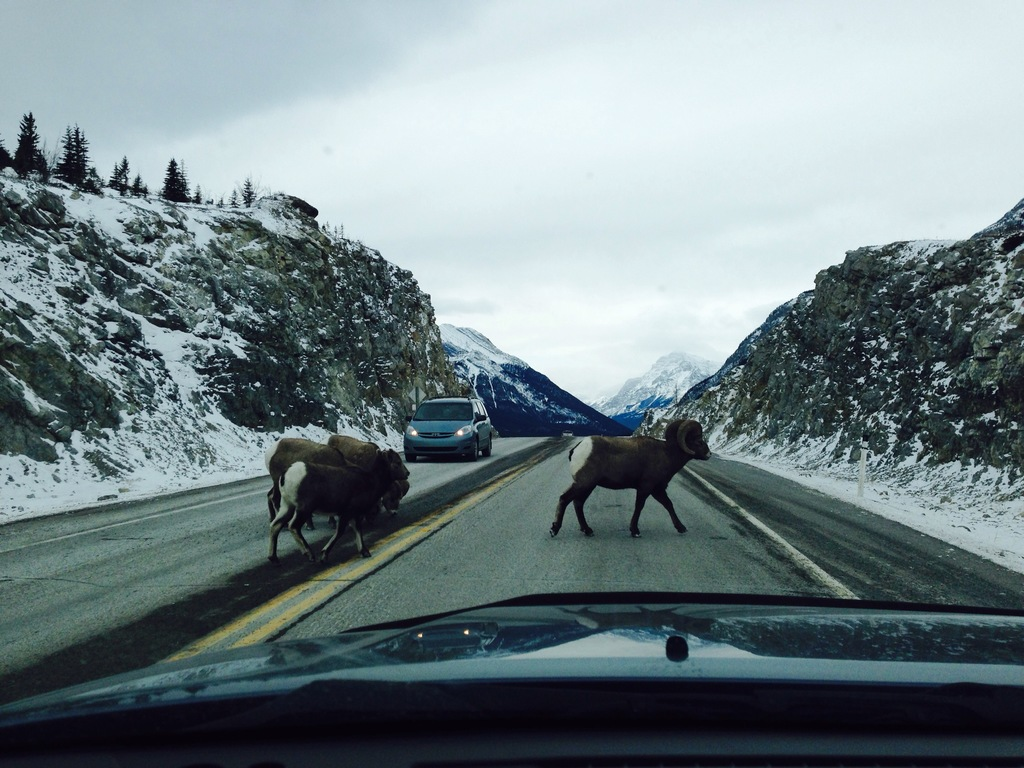sheep: (549, 418, 712, 537), (269, 459, 402, 558)
